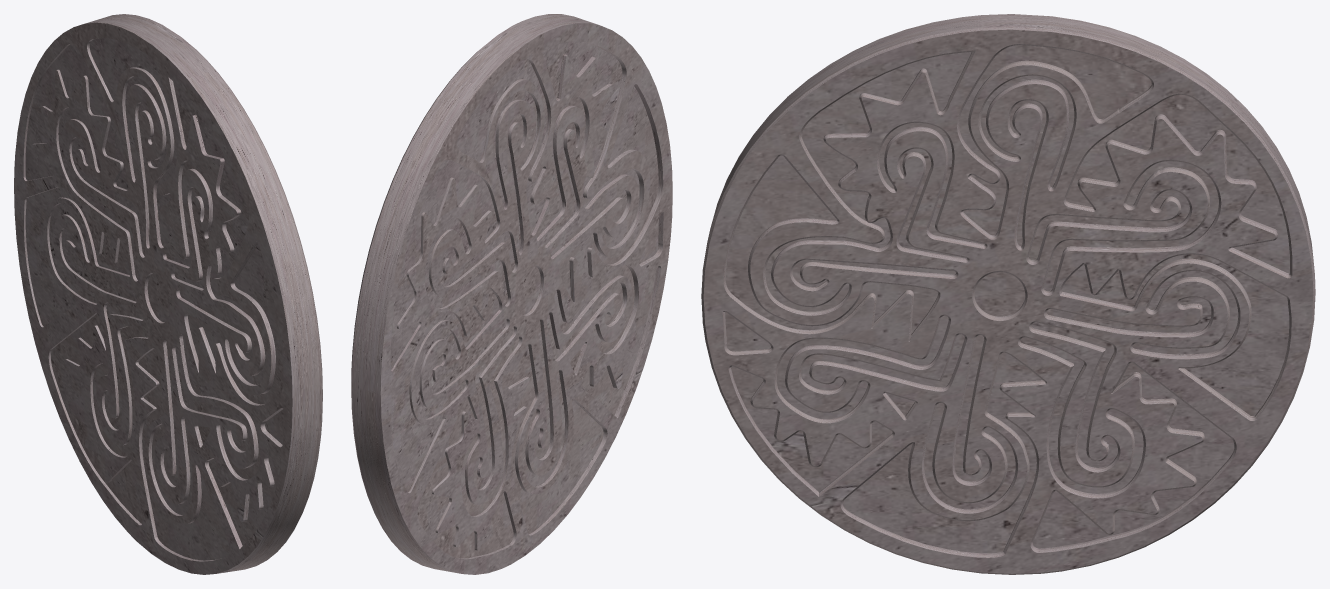
The model's file is sello.glb.
3 views of the same model, side by side, from view 1: azimuth 30°, elevation 25°; view 2: azimuth 150°, elevation 25°; view 3: azimuth 270°, elevation 25° (orthographic). The views are drawn at different scales.
Visible parts, largest first — view 1: Tapa_1, Cilindro, object 2, Redondeado_2; view 2: Tapa_1, Cilindro, object 2, Redondeado_2; view 3: Tapa_2, Cilindro, Redondeado_2, object 2.
Boxes of the visible parts, x1,y1,x2,y2 form: Tapa_1: [14, 22, 292, 574]; Cilindro: [25, 38, 283, 572]; object 2: [23, 14, 321, 573]; Redondeado_2: [187, 42, 322, 511]; Tapa_1: [380, 23, 672, 574]; Cilindro: [390, 41, 658, 558]; object 2: [352, 14, 663, 573]; Redondeado_2: [351, 51, 477, 495]; Tapa_2: [703, 29, 1313, 573]; Cilindro: [725, 45, 1289, 553]; Redondeado_2: [701, 26, 1315, 574]; object 2: [707, 14, 1314, 554].
Size of the model in its own units: 19.66 by 266 by 270.
Materials: 1 (1 with a texture image).
